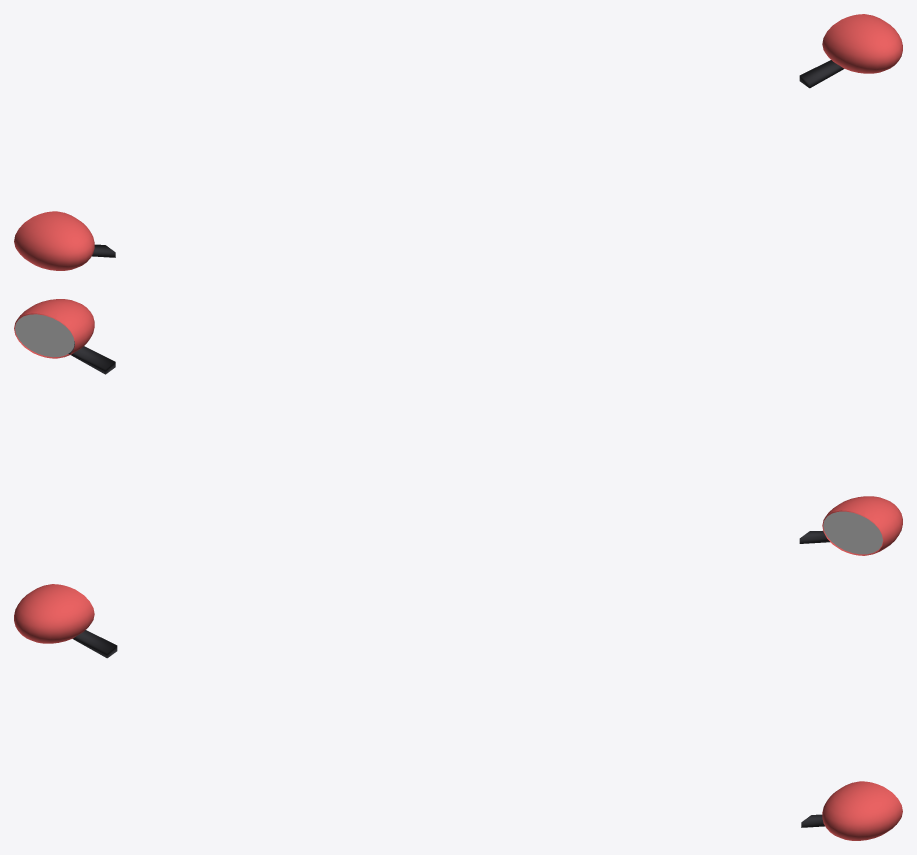
The model's file is mirrors-aero.glb.
3 renders of one model, top to bottom at view 1: azimuth 30°, elevation 25°; view 2: azimuth 150°, elevation 25°; view 3: azimuth 330°, elevation 25°, orthographic.
Parts seen in each view (by area): view 1: mirror_head_R, mirror_head_L, mirror_stalk; view 2: mirror_glass, mirror_glass.001, mirror_head_R, mirror_head_L, mirror_stalk; view 3: mirror_head_L, mirror_head_R, mirror_stalk.001.
Part boxes in pixels (x1=…): mirror_head_R: x1=14, y1=211, x2=94, y2=270; mirror_head_L: x1=822, y1=14, x2=902, y2=73; mirror_stalk: x1=799, y1=60, x2=844, y2=88; mirror_glass: x1=15, y1=314, x2=74, y2=357; mirror_glass.001: x1=823, y1=511, x2=882, y2=554; mirror_head_R: x1=822, y1=496, x2=902, y2=555; mirror_head_L: x1=14, y1=299, x2=94, y2=358; mirror_stalk: x1=68, y1=341, x2=115, y2=374; mirror_head_L: x1=822, y1=781, x2=902, y2=840; mirror_head_R: x1=14, y1=584, x2=94, y2=643; mirror_stalk.001: x1=72, y1=630, x2=117, y2=658.
Bounding box in the file's own units: 1.99 × 0.11 × 0.135.
